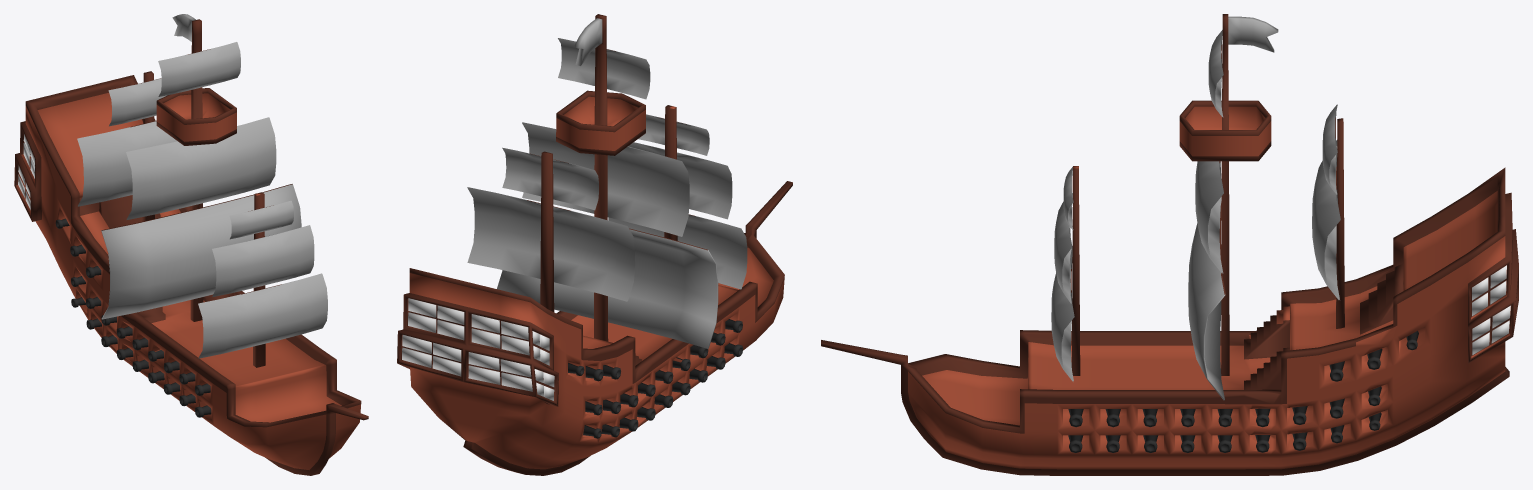
Rendered from ShipColored.fbx.
3 renders of one model, left to right at view 1: azimuth 30°, elevation 25°; view 2: azimuth 150°, elevation 25°; view 3: azimuth 270°, elevation 25°, orthographic. The views are drawn at different scales.
Parts seen in each view (by area): view 1: Ship0.003; view 2: Ship0.003; view 3: Ship0.003.
Boxes of the visible parts, x1,y1,x2,y2 form: Ship0.003: (14,14,368,475); Ship0.003: (397,14,792,475); Ship0.003: (821,14,1518,475).
Bounding box in the file's own units: 354 × 676 × 935.
